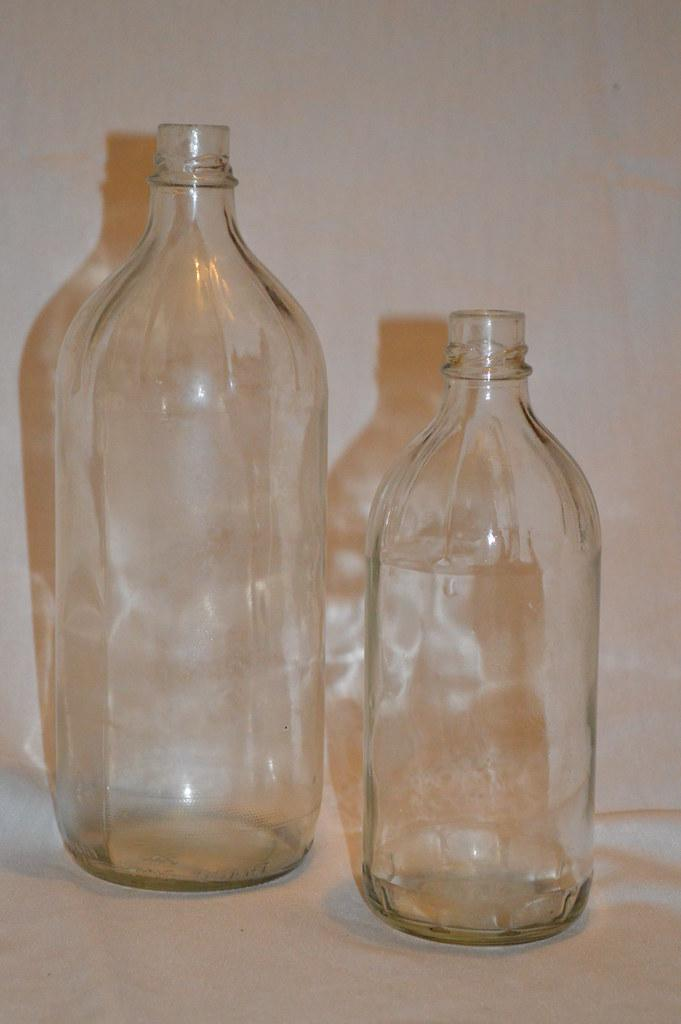bottle: (50, 122, 329, 893), (361, 308, 603, 947)
